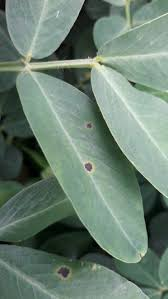Diseased_Leaves: (48, 261, 76, 284), (80, 155, 101, 180), (85, 121, 93, 131)
